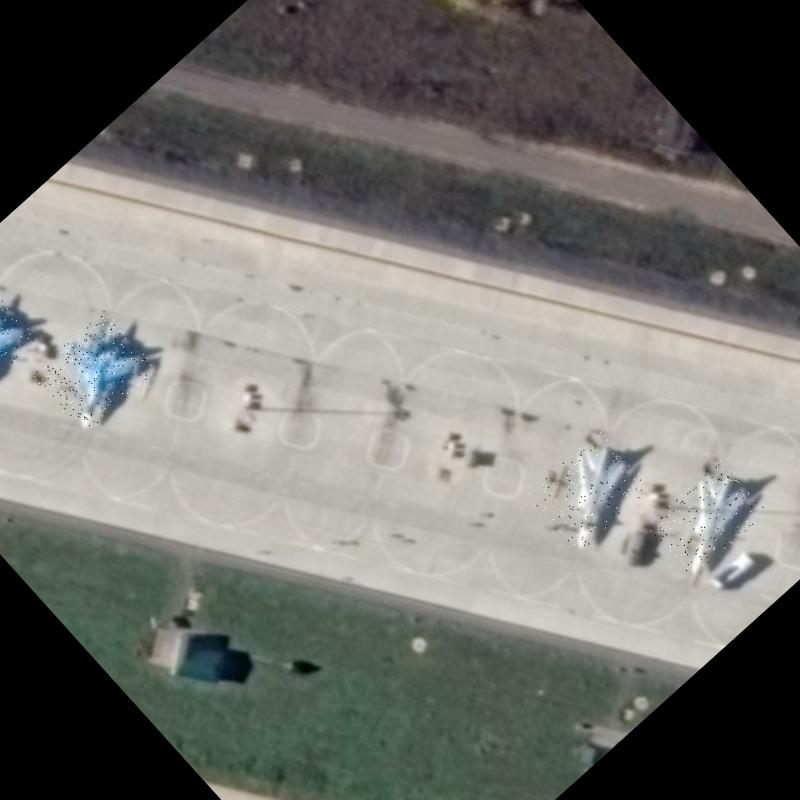A19: (30, 308, 158, 434), (0, 283, 39, 404)
A20: (526, 428, 654, 552), (646, 456, 768, 578)
